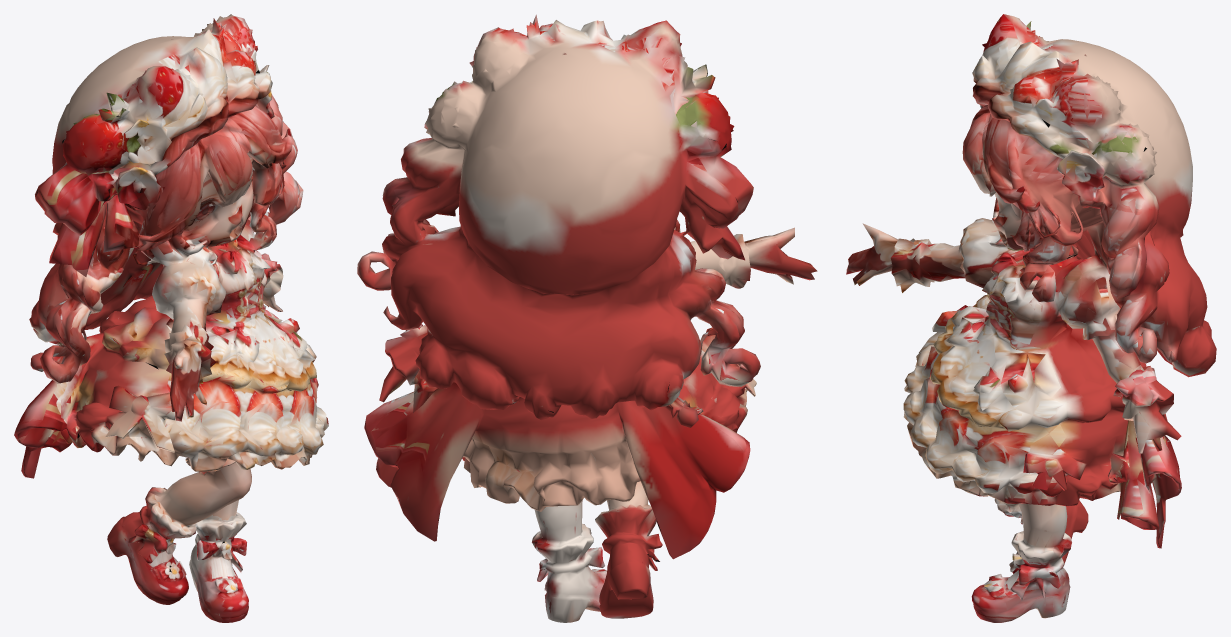
The model's file is strawberry_shortcake_roblox.glb.
3 renders of one model, left to right at view 1: azimuth 30°, elevation 25°; view 2: azimuth 150°, elevation 25°; view 3: azimuth 270°, elevation 25°, orthographic. The views are drawn at different scales.
Parts seen in each view (by area): view 1: DessertStrawberryShortcake_Part003, DessertStrawberryShortcake_Part002, DessertStrawberryShortcake_Eyes; view 2: DessertStrawberryShortcake_Part002, DessertStrawberryShortcake_Part003; view 3: DessertStrawberryShortcake_Part002, DessertStrawberryShortcake_Part003, DessertStrawberryShortcake_Eyes.
Part boxes in pixels (<box>): DessertStrawberryShortcake_Part003: <box>14,17,328,622</box>; DessertStrawberryShortcake_Part002: <box>14,14,318,622</box>; DessertStrawberryShortcake_Eyes: <box>187,160,252,240</box>; DessertStrawberryShortcake_Part002: <box>357,15,817,622</box>; DessertStrawberryShortcake_Part003: <box>362,14,813,616</box>; DessertStrawberryShortcake_Part002: <box>861,14,1216,622</box>; DessertStrawberryShortcake_Part003: <box>846,14,1180,622</box>; DessertStrawberryShortcake_Eyes: <box>962,139,1007,231</box>.
Bounding box in the file's own units: 2.14 × 3.57 × 2.1.
Materials: 2 (2 with a texture image).
